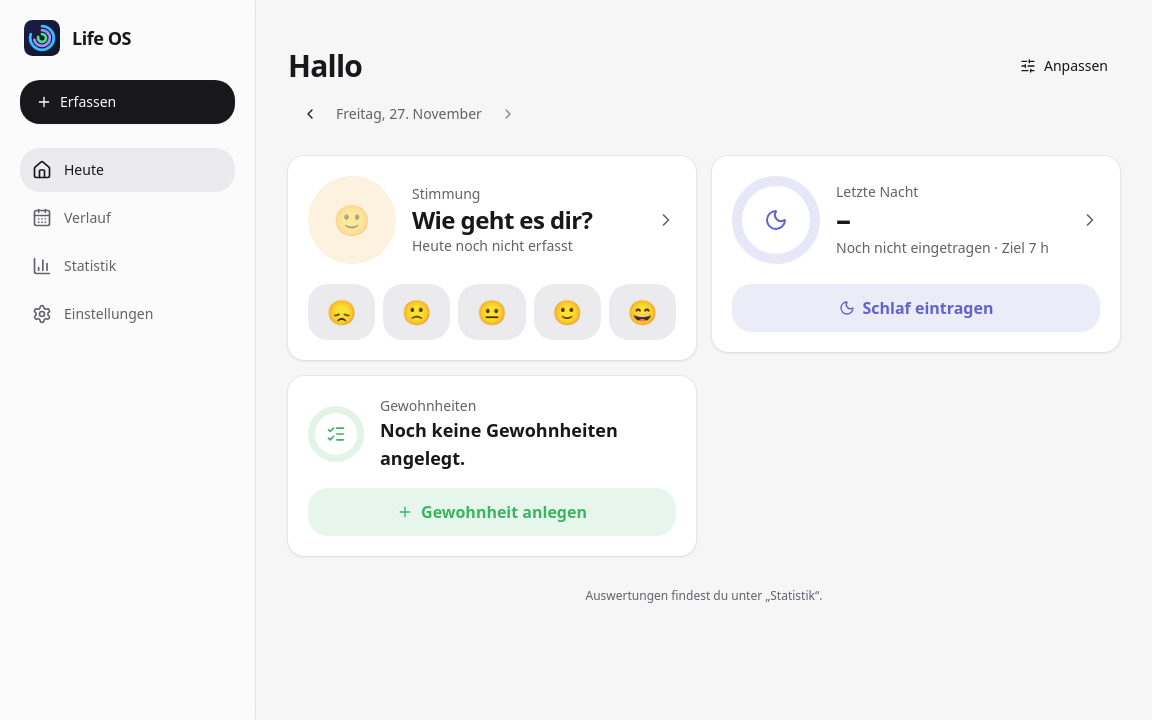
Test: mood, sleep and habit widgets › creates a habit and ticks it off
Click the button "Gewohnheit anlegen": click(492, 512) [308,488,676,536]
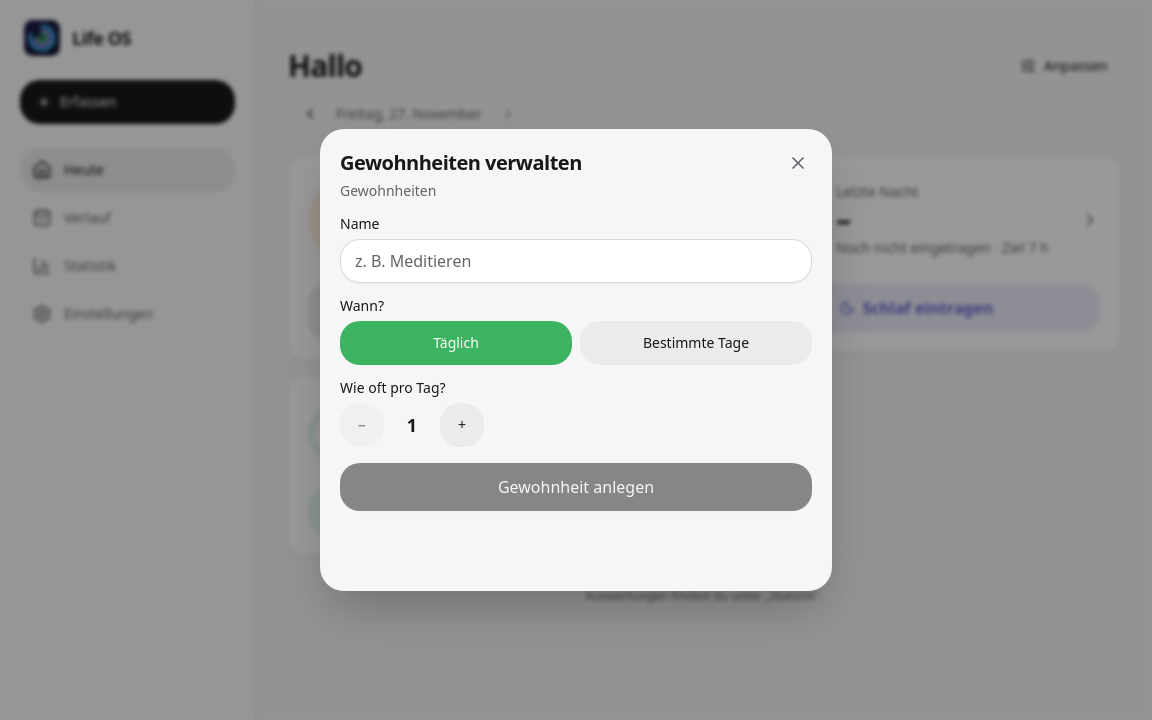
In the field labelled "Name": (576, 261) [340,239,812,283], type "Meditieren"
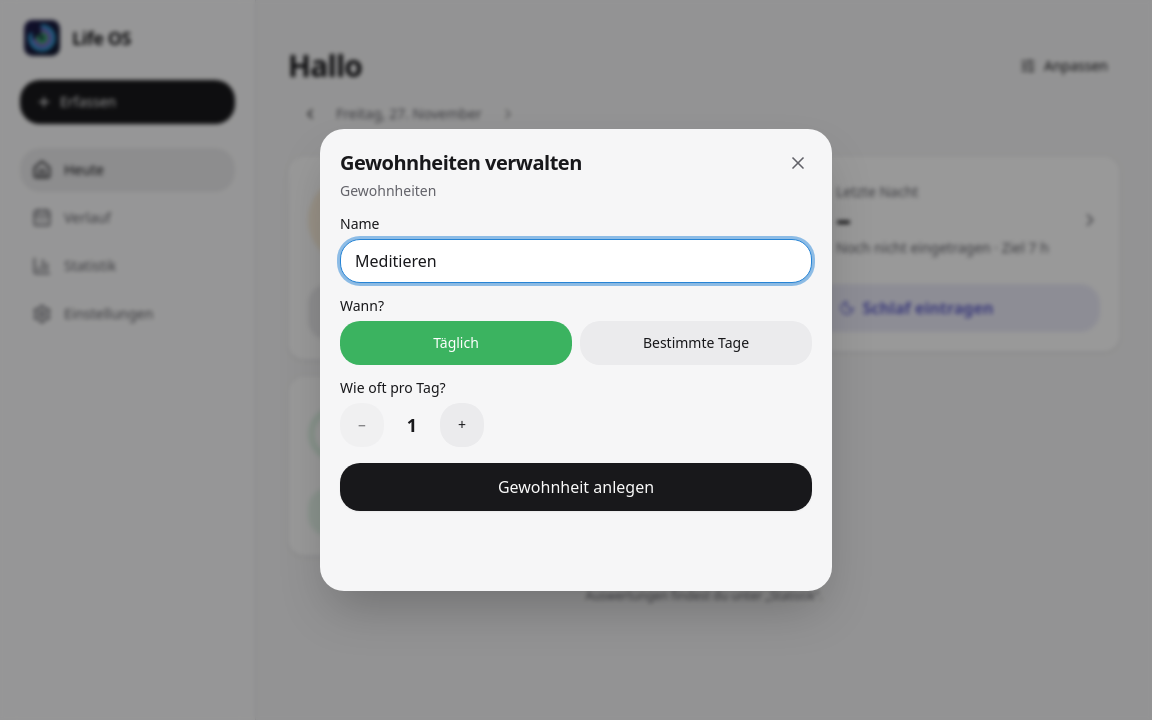
Click the button "Gewohnheit anlegen": click(576, 487) [340,463,812,511]
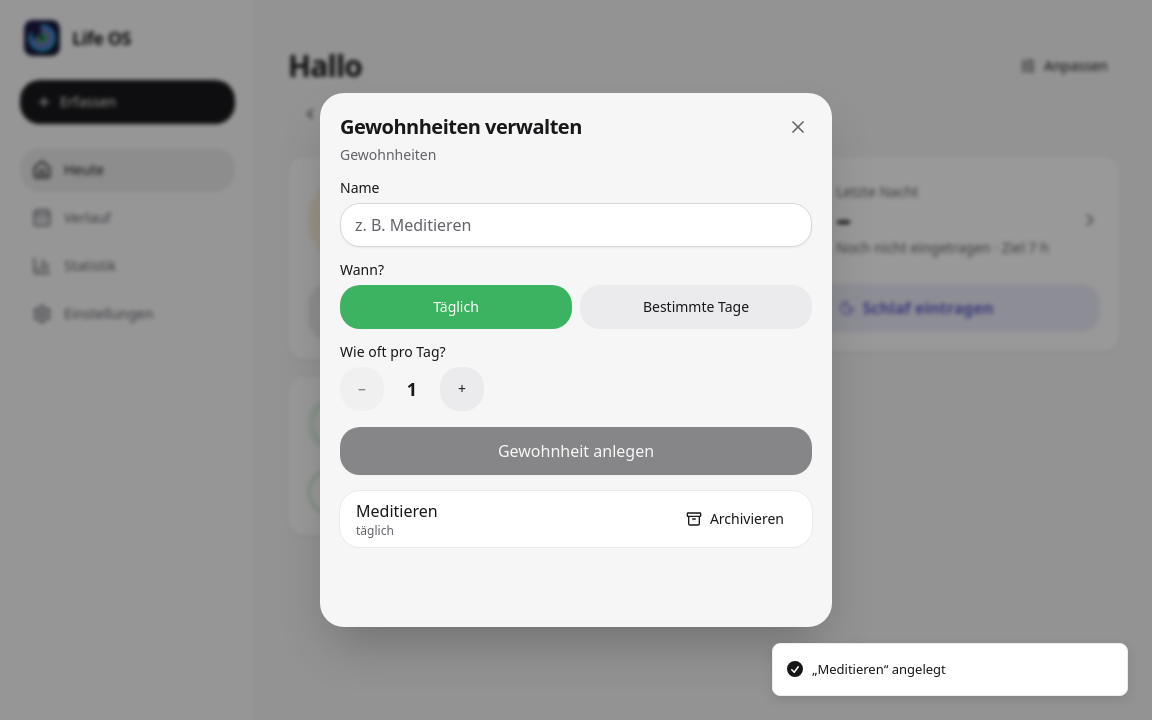
Press Escape
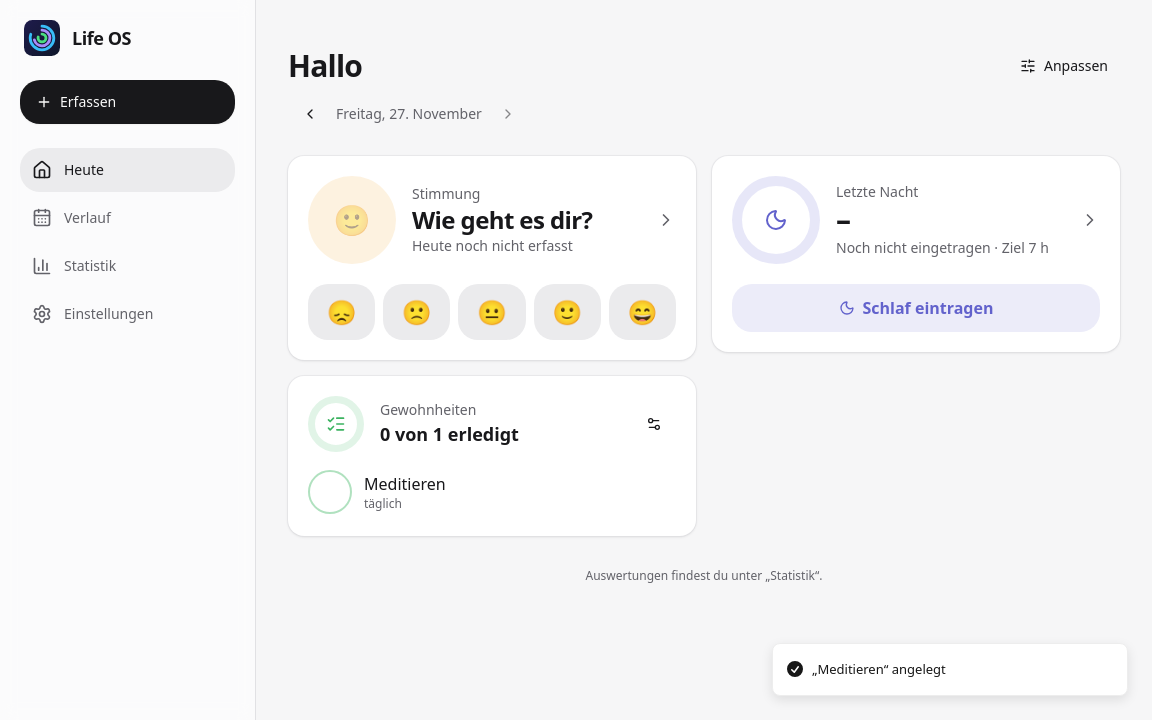
Click the button named "Meditieren abhaken": click(330, 492) [308,470,352,514]
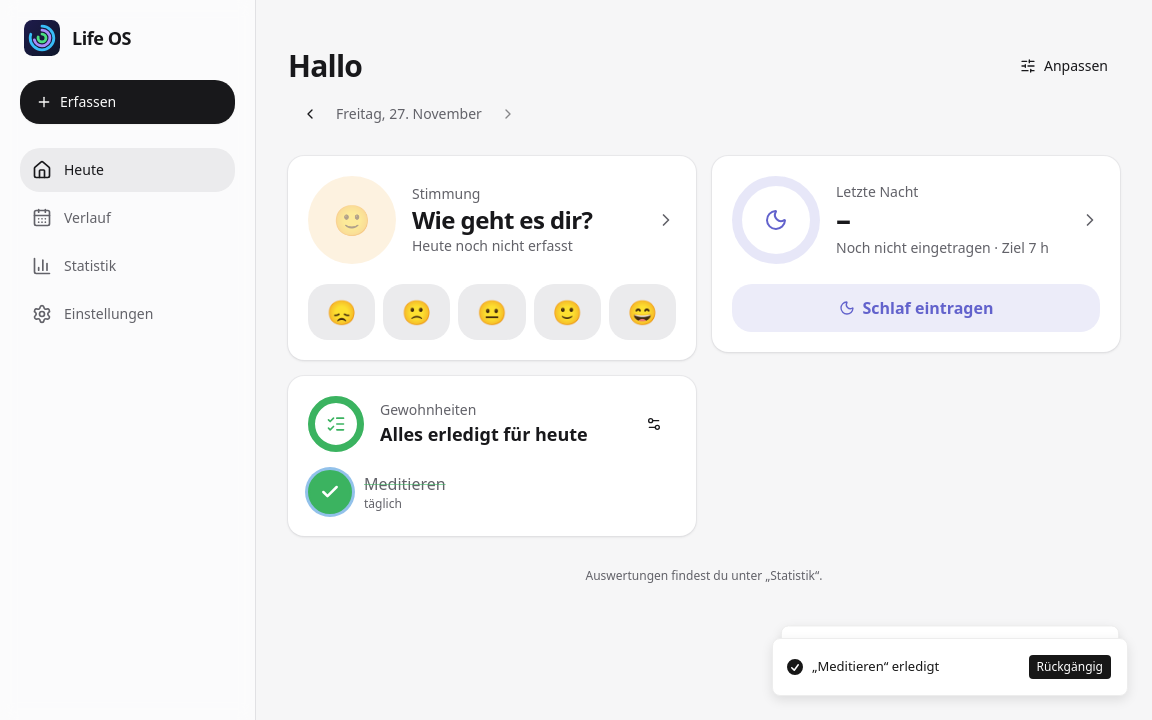
Expected: the text "Alles erledigt für heute" is shown, [380,420,616,448]
// Tapping again takes the completion back.
Click the button named "Meditieren: letzte Erledigung zurücknehmen": click(330, 492) [308,470,352,514]
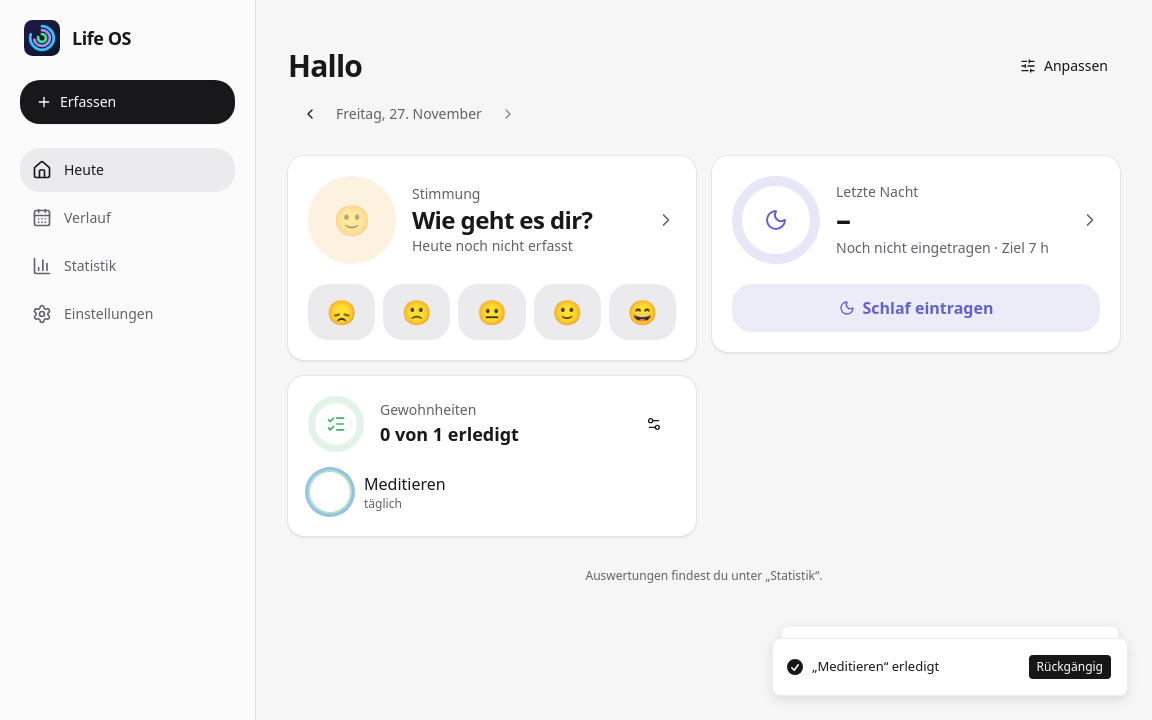
Expected: the text "0 von 1 erledigt" is shown, [380,422,519,446]
